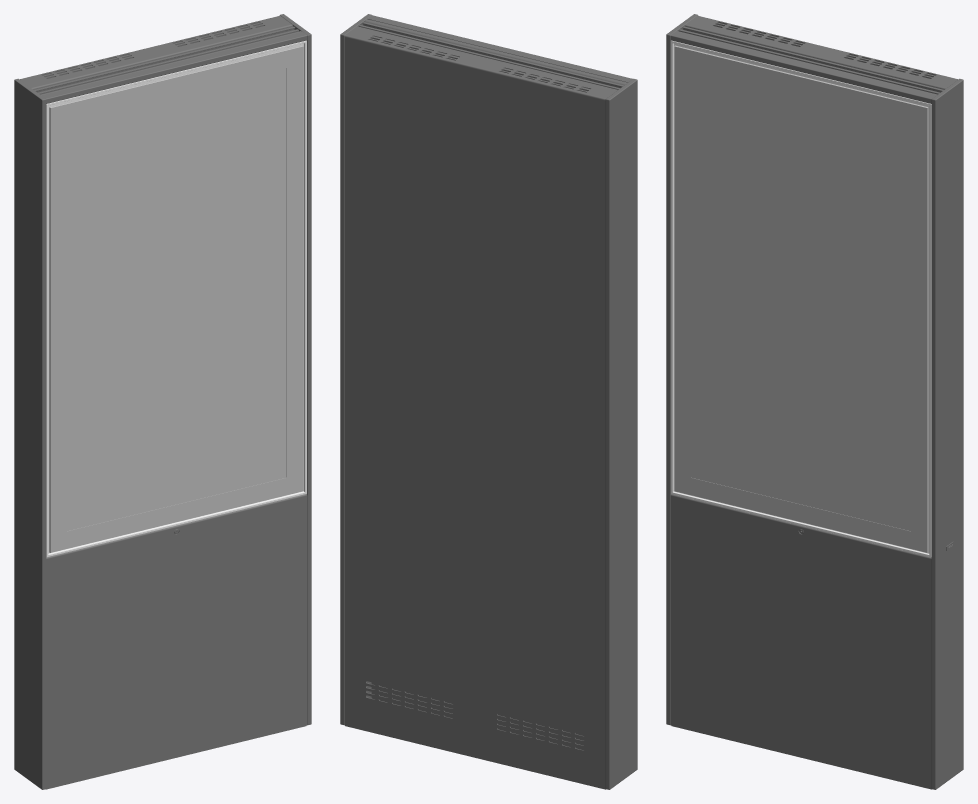
The model's file is totem_chasis.obj.
3 renders of one model, left to right at view 1: azimuth 30°, elevation 25°; view 2: azimuth 150°, elevation 25°; view 3: azimuth 330°, elevation 25°, orthographic.
Parts seen in each view (by area): view 1: Burri_Monitorstele; view 2: Burri_Monitorstele; view 3: Burri_Monitorstele.
Boxes of the visible parts, x1=… form: Burri_Monitorstele: x1=14, y1=14, x2=311, y2=789; Burri_Monitorstele: x1=340, y1=14, x2=637, y2=789; Burri_Monitorstele: x1=666, y1=14, x2=963, y2=789.
Bounding box in the file's own units: 0.832 × 2.03 × 0.15.
